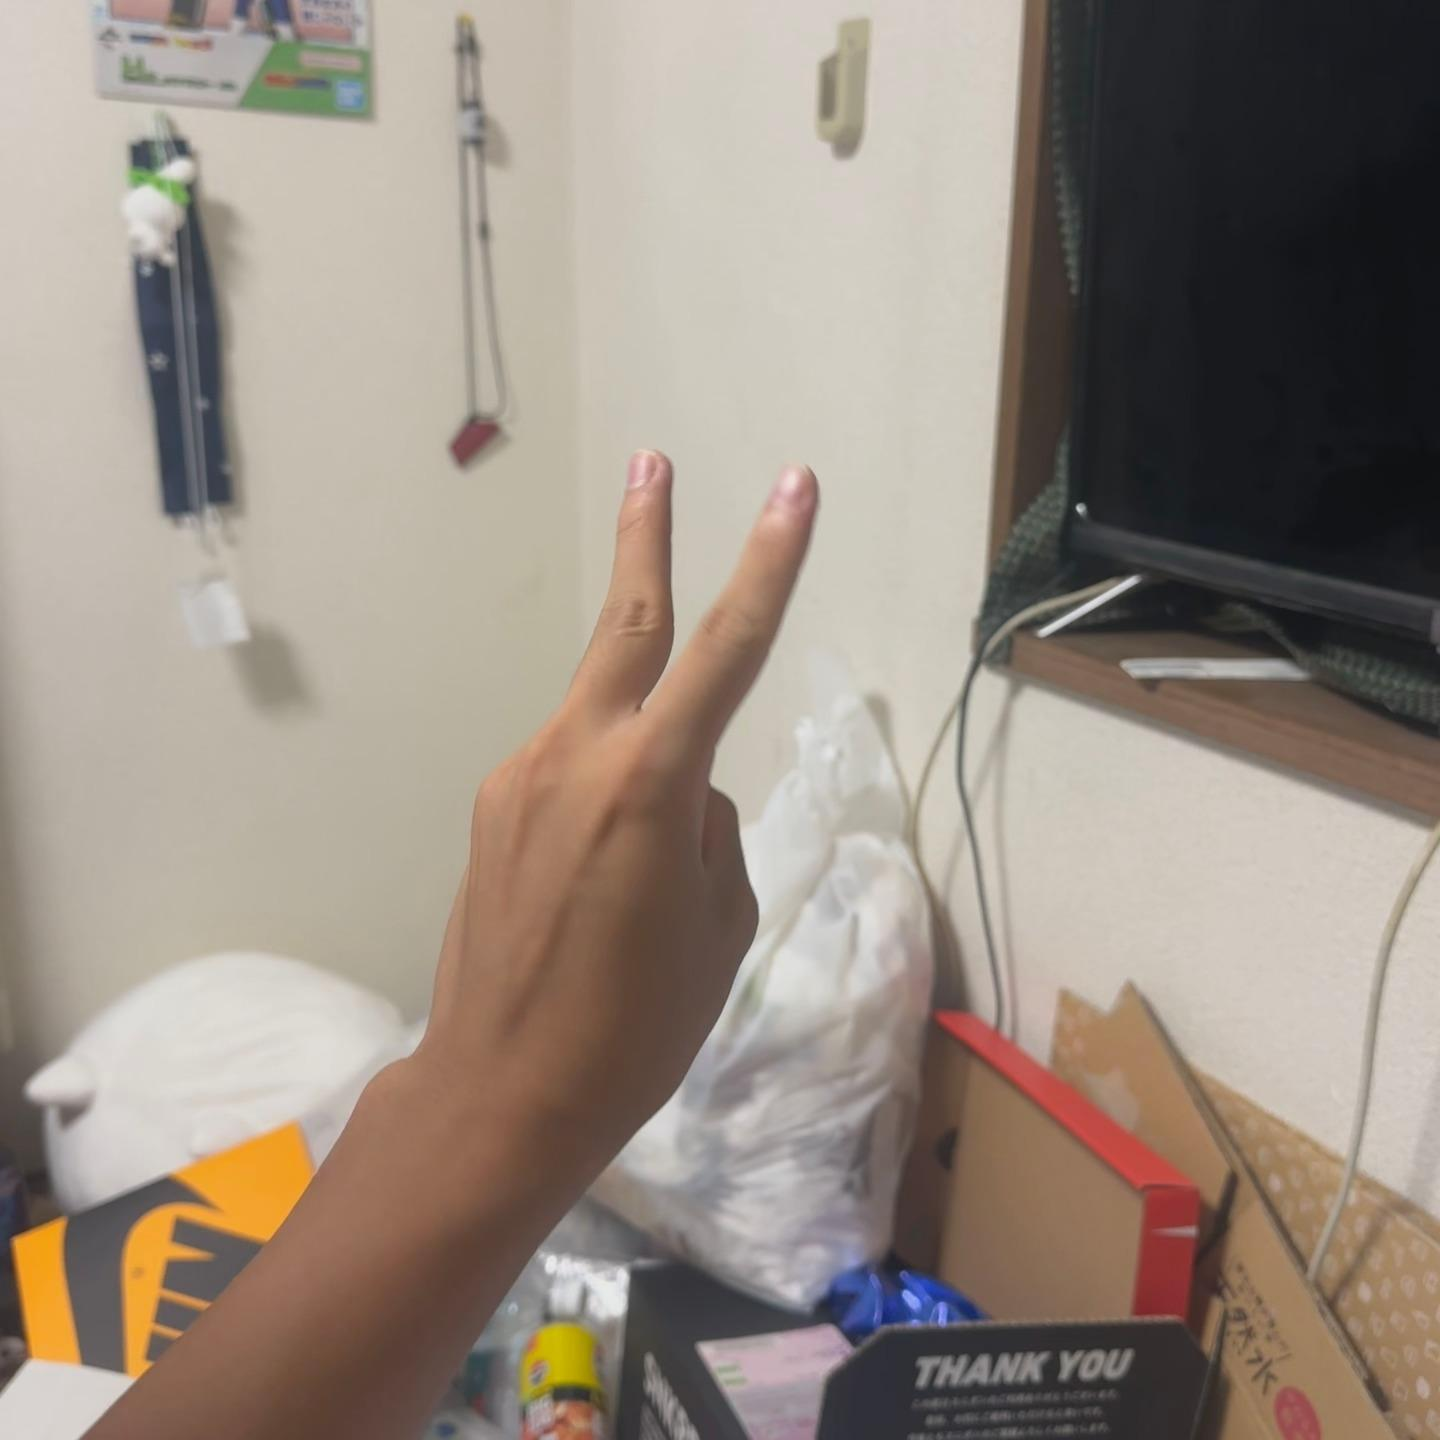without_gloves: (330, 348, 1120, 1299)
